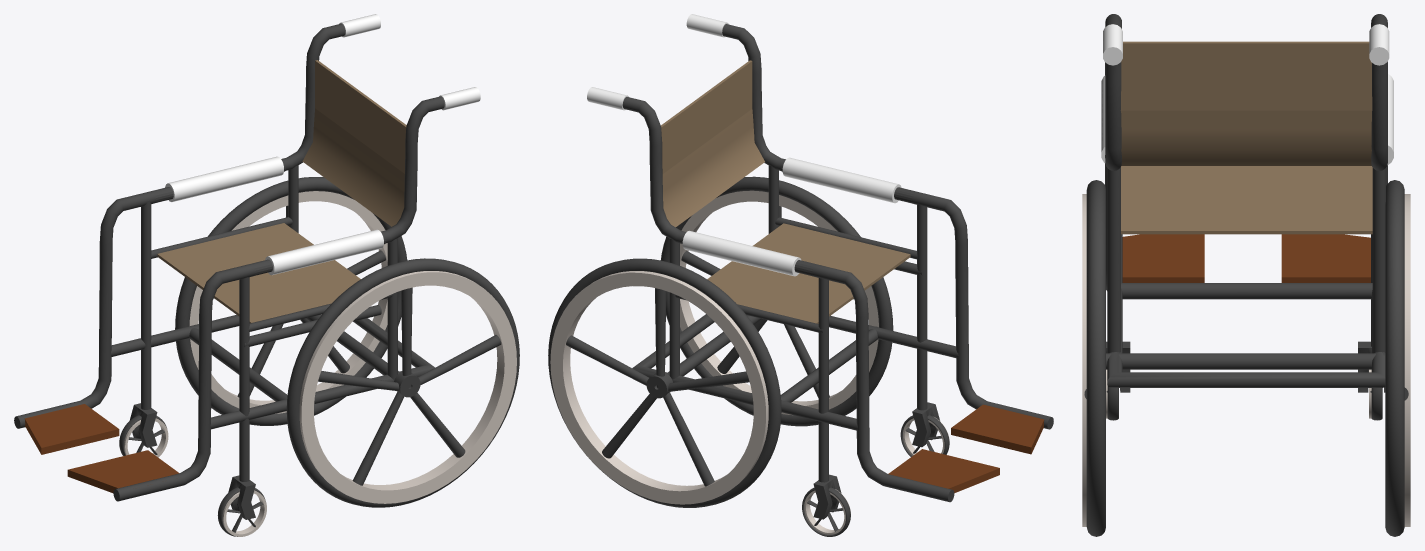
File: eeoGDcg9a-a.glb
The picture shows the model from 3 angles, left to right: view 1: azimuth 30°, elevation 25°; view 2: azimuth 150°, elevation 25°; view 3: azimuth 270°, elevation 25°; orthographic projection. The views are drawn at different scales.
Parts seen in each view (by area): view 1: Box002; view 2: Box002; view 3: Box002.
Boxes of the visible parts, x1,y1,x2,y2 form: Box002: (14, 14, 519, 536); Box002: (548, 14, 1053, 536); Box002: (1082, 14, 1410, 536).
Bounding box in the file's own units: 1.09 × 1 × 0.5658.
